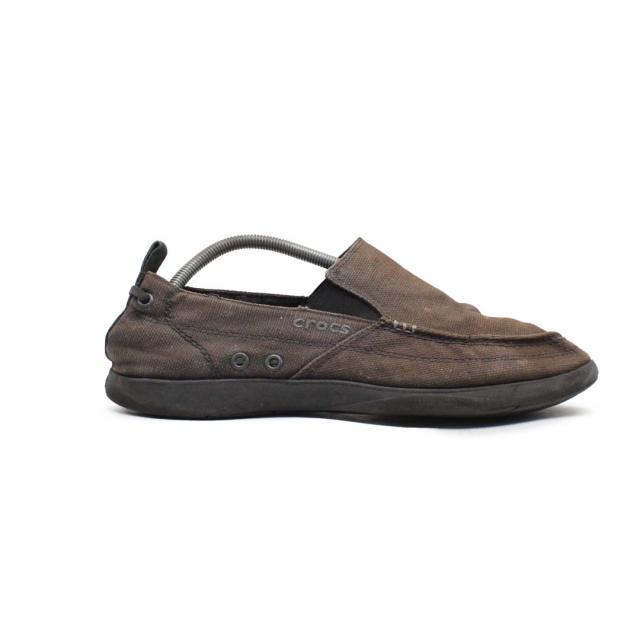heel: (99, 240, 190, 379)
midsole: (102, 361, 597, 429)
uppersole: (190, 240, 589, 384)
